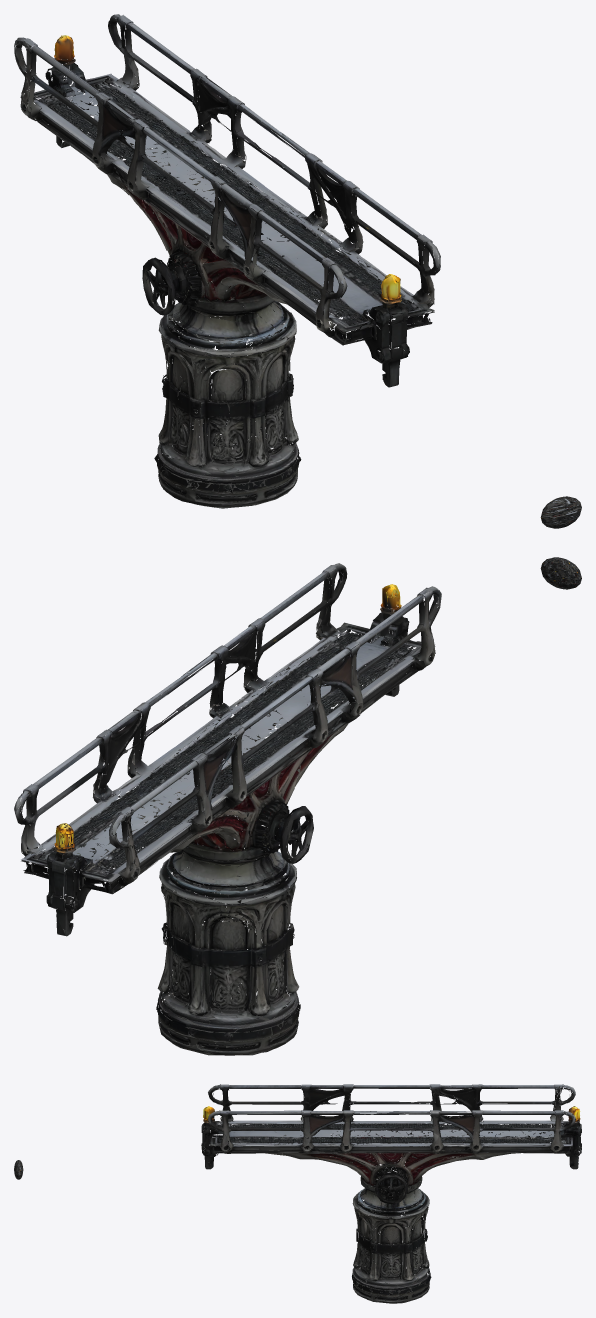
Rendered from traversal_catwalk_swing_span.glb.
The picture shows the model from 3 angles, top to bottom: view 1: azimuth 30°, elevation 25°; view 2: azimuth 150°, elevation 25°; view 3: azimuth 270°, elevation 25°; orthographic projection. The views are drawn at different scales.
Parts seen in each view (by area): view 1: node_0, HB_PULSE_00; view 2: node_0, HB_PULSE_00; view 3: node_0.
Boxes of the visible parts, x1=… form: node_0: x1=14, y1=14, x2=440, y2=508; HB_PULSE_00: x1=540, y1=496, x2=581, y2=528; node_0: x1=14, y1=563, x2=441, y2=1055; HB_PULSE_00: x1=540, y1=557, x2=581, y2=589; node_0: x1=201, y1=1084, x2=581, y2=1303.
Size of the model in its own units: 0.2696 by 0.5988 by 1.62.
Materials: 1 (1 with a texture image).
